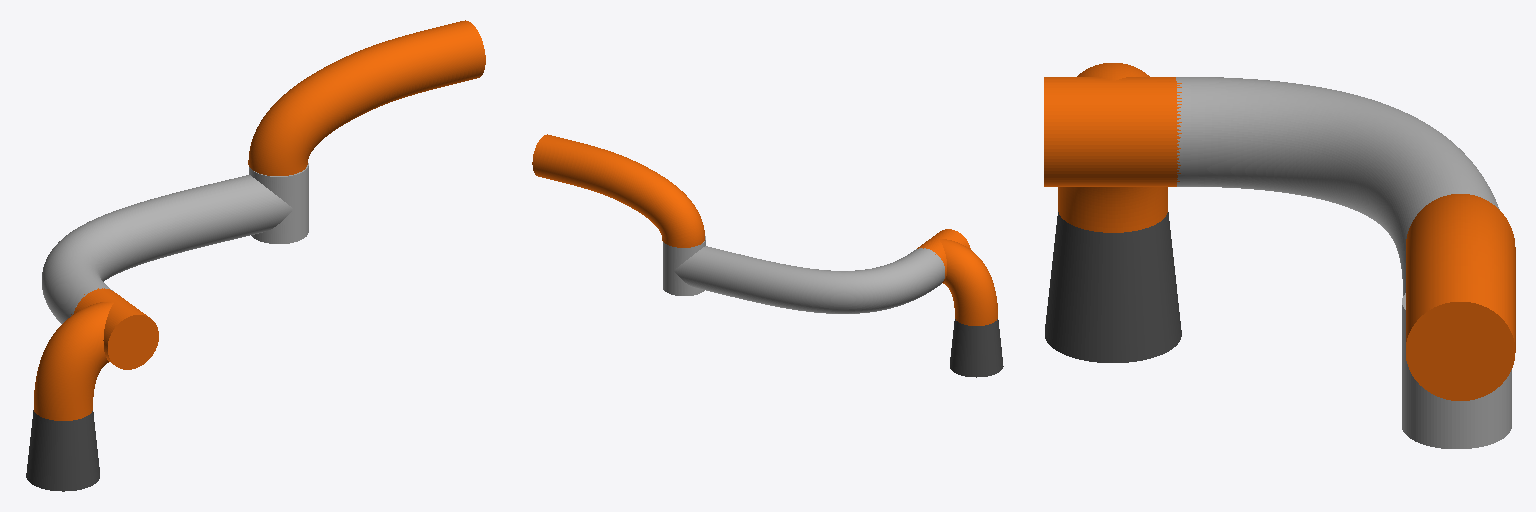
The robot description file, URDF, robot "custom_3r":
<?xml version="1.0" encoding="UTF-8"?>
<robot name="custom_3r">
  
  <!--
  Initial assembly generated from the supplied STL meshes and joint data.
  
  Assumption for this first version:
  - Each STL is expressed in its corresponding link frame.
  - Therefore visual/collision mesh origins are xyz="0 0 0", rpy="0 0 0".
  - The joint origins below are used exactly as supplied and are relative
  to their parent link frames, as required by URDF.
  
  Units:
  - STL geometry appears to be in metres.
  - URDF distances are metres and angles are radians.
  -->
  
  <material name="color_1">
  <color rgba="0.35 0.35 0.35 1.0"/>
  </material>
  <material name="color_2">
  <color rgba="0.95 0.45 0.08 1.0"/>
  </material>
  <material name="color_1">
  <color rgba="0.20 0.22 0.23 1.0"/>
  </material>
  
  <material name="color_2">
  <color rgba="0.05 0.42 0.43 1.0"/>
  </material>
  
  <material name="gray_white">
  <color rgba="0.7 0.7 0.7 1.0"/>
  </material>
  
  <link name="base_link">
  <visual>
  <origin xyz="0 0 0" rpy="0 0 0"/>
  <geometry>
  <mesh filename="package://custom_3r_description/meshes/base_link.stl"/>
  </geometry>
  <material name="color_1"/>
  </visual>
  <collision>
  <origin xyz="0 0 0" rpy="0 0 0"/>
  <geometry>
  <mesh filename="package://custom_3r_description/meshes/base_link.stl"/>
  </geometry>
  </collision>
  </link>
  
  <link name="link_1_400">
  <visual>
  <origin xyz="0 0 0" rpy="0 0 0"/>
  <geometry>
  <mesh filename="package://custom_3r_description/meshes/link_1_400.stl"/>
  </geometry>
  <material name="color_2"/>
  </visual>
  <collision>
  <origin xyz="0 0 0" rpy="0 0 0"/>
  <geometry>
  <mesh filename="package://custom_3r_description/meshes/link_1_400.stl"/>
  </geometry>
  </collision>
  </link>
  
  <joint name="joint_1" type="revolute">
  <parent link="base_link"/>
  <child link="link_1_400"/>
  <origin xyz="0 0 0.5" rpy="0 0 0"/>
  <axis xyz="0 0 1"/>
  <limit lower="-3.141592653589793" upper="3.141592653589793" effort="100" velocity="2.0"/>
  </joint>
  
  <link name="link_2">
  <visual>
  <origin xyz="0 0.25 0" rpy="0 0 -1.5707"/>
  <geometry>
  <mesh filename="package://custom_3r_description/meshes/link_2.stl" scale="1 1 1"/>
  </geometry>
  <material name="gray_white"/>
  </visual>
  <collision>
  <origin xyz="0 0 0" rpy="0 0 0"/>
  <geometry>
  <mesh filename="package://custom_3r_description/meshes/link_2.stl"/>
  </geometry>
  </collision>
  </link>
  
  <joint name="joint_2" type="revolute">
  <parent link="link_1_400"/>
  <child link="link_2"/>
  <origin xyz="0.4 0 0.5" rpy="0 0 0"/>
  <axis xyz="0 1 0"/>
  <limit lower="-3.141592653589793" upper="3.141592653589793" effort="100" velocity="2.0"/>
  </joint>
  
  <link name="link_3_d3">
  <visual>
  <origin xyz="0 0 0.25" rpy="0 0 0"/>
  <geometry>
  <mesh filename="package://custom_3r_description/meshes/link_3_d3.stl" scale="1 1 1"/>
  </geometry>
  <material name="color_2"/>
  </visual>
  <collision>
  <origin xyz="0 0 0" rpy="0 0 0"/>
  <geometry>
  <mesh filename="package://custom_3r_description/meshes/link_3_d3.stl"/>
  </geometry>
  </collision>
  </link>
  
  <joint name="joint_3" type="revolute">
  <parent link="link_2"/>
  <child link="link_3_d3"/>
  <origin xyz="2 1.25 0.0" rpy="0 0 0"/>
  <axis xyz="0 0 1"/>
  <limit lower="-3.141592653589793" upper="3.141592653589793" effort="100" velocity="2.0"/>
  </joint>
  
  <!-- Convenient fixed end-effector frame at link_3 origin for now.
  Move this origin later if the actual TCP is elsewhere. -->
  <link name="tool0"/>
  <joint name="tool0_fixed_joint" type="fixed">
  <parent link="link_3_d3"/>
  <child link="tool0"/>
  <origin xyz="1.5 0 0.75" rpy="0 0 0"/>
  </joint>
  
</robot>

--- Render facts (derived) ---
Views: 3 orthographic renders of the robot side by side, from view 1: azimuth 30°, elevation 25°; view 2: azimuth 150°, elevation 25°; view 3: azimuth 270°, elevation 25°.
Robot: custom_3r — 5 links, 4 joints (3 revolute, 1 fixed); root link base_link; default pose: all joints at 0.
Links seen in each view (by area): view 1: link_2, link_3_d3, link_1_400, base_link; view 2: link_2, link_3_d3, link_1_400, base_link; view 3: link_2, link_3_d3, link_1_400, base_link.
Link boxes in pixels (<box>): link_2: <box>42,163,308,323</box>; link_3_d3: <box>248,20,485,175</box>; link_1_400: <box>34,288,158,420</box>; base_link: <box>26,410,99,491</box>; link_2: <box>663,236,944,313</box>; link_3_d3: <box>532,134,704,247</box>; link_1_400: <box>917,229,997,325</box>; base_link: <box>950,319,1003,377</box>; link_2: <box>1176,77,1511,448</box>; link_3_d3: <box>1406,194,1515,400</box>; link_1_400: <box>1044,63,1181,232</box>; base_link: <box>1045,212,1181,362</box>.
Bounding box of the posed robot: 4.15 × 1.71 × 1.95 m (x, y, z).
4 mesh visuals loaded from 4 distinct referenced files (4 binary STL).
